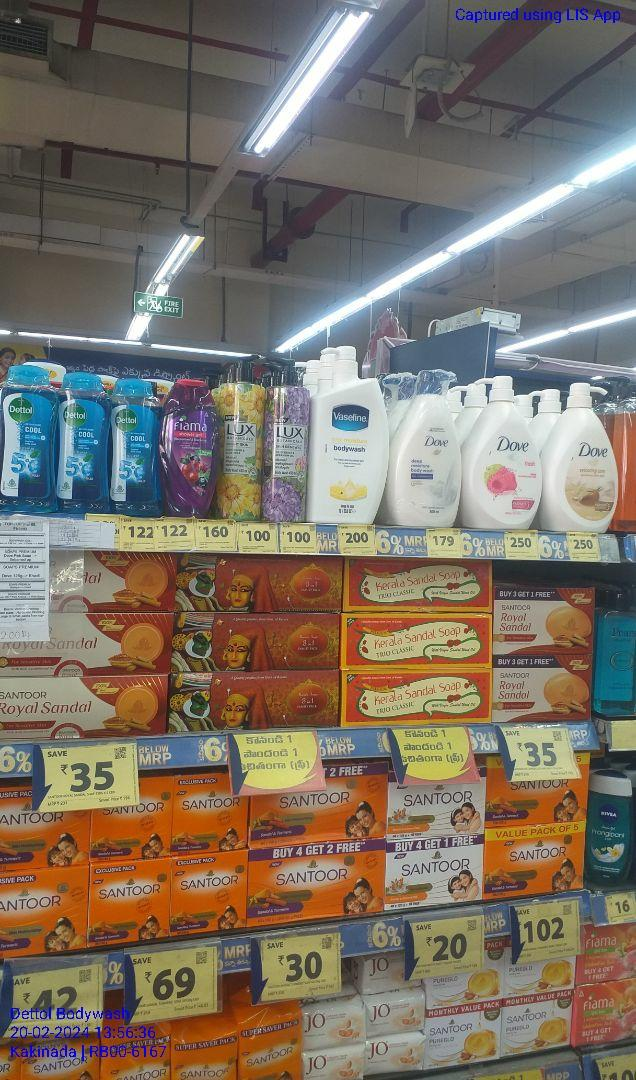Dettol_Bodywash_Cool: (0, 361, 58, 513), (54, 369, 108, 518), (109, 373, 161, 519)
